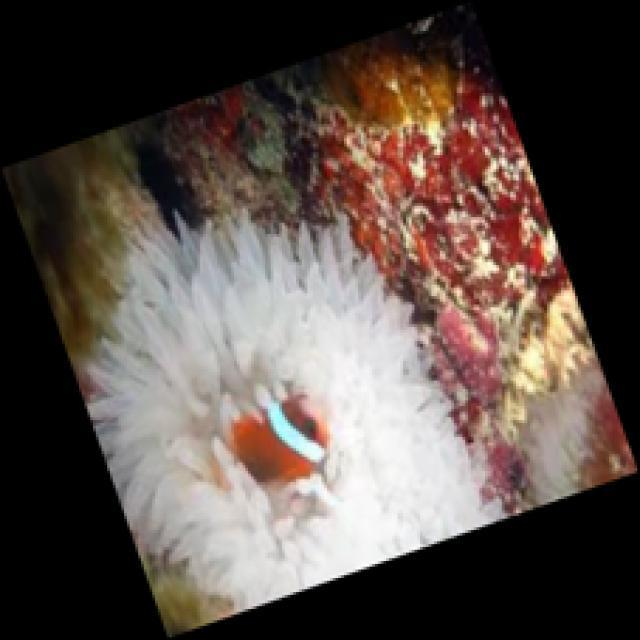Bleached: (81, 209, 504, 615)
